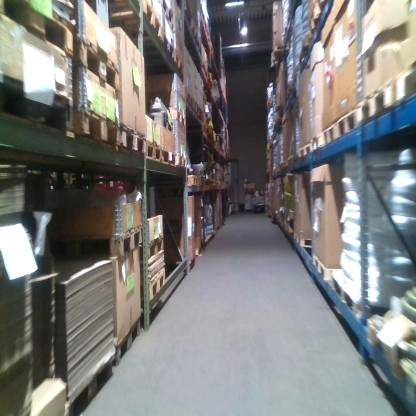pallets: (76, 109, 175, 165), (359, 69, 416, 128), (66, 349, 114, 415), (135, 4, 182, 68), (320, 101, 367, 152), (111, 311, 145, 369), (326, 268, 362, 322), (114, 224, 142, 262), (309, 252, 336, 289), (291, 136, 321, 164), (145, 268, 168, 300), (146, 229, 168, 258), (290, 231, 314, 250)
